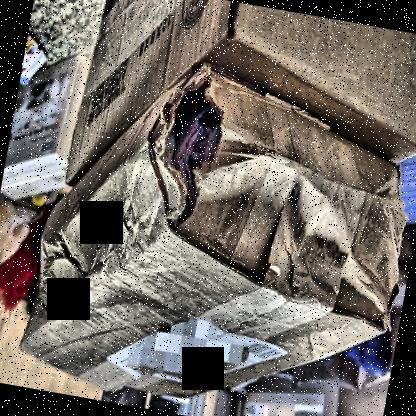defect parcel: (4, 40, 416, 416)
no defect parcel: (49, 0, 416, 192)
